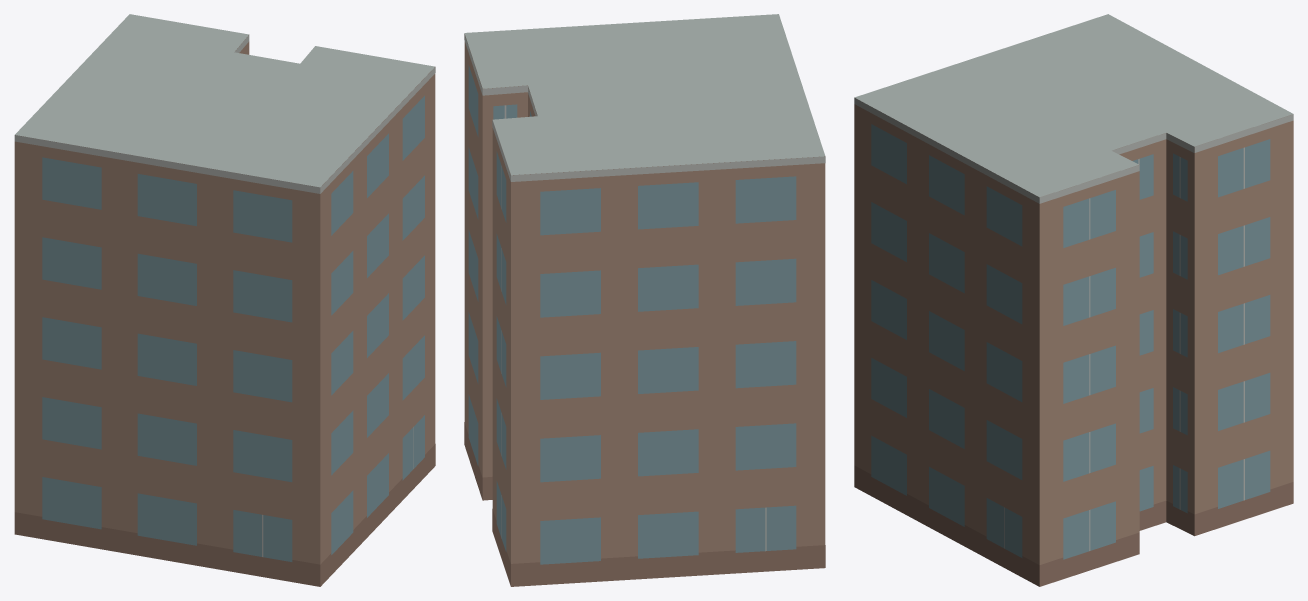
The model's file is survey-upis-32536003.glb.
The picture shows the model from 3 angles, left to right: view 1: azimuth 30°, elevation 25°; view 2: azimuth 150°, elevation 25°; view 3: azimuth 270°, elevation 25°; orthographic projection. The views are drawn at different scales.
Visible parts, largest first — view 1: survey-upis-32536003.tmp; view 2: survey-upis-32536003.tmp; view 3: survey-upis-32536003.tmp.
Boxes of the visible parts, x1,y1,x2,y2 form: survey-upis-32536003.tmp: (14,14,435,586); survey-upis-32536003.tmp: (464,14,825,586); survey-upis-32536003.tmp: (854,14,1293,586).
Bounding box in the file's own units: 14.85 × 14.7 × 15.04.
